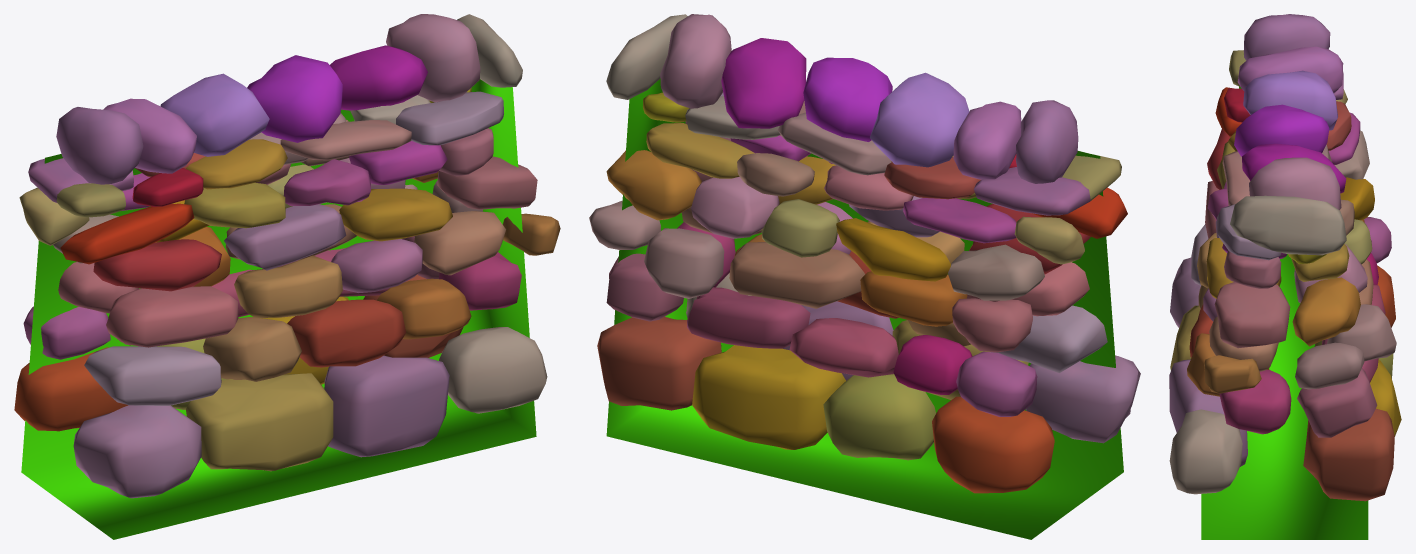
Rendered from SM_Prop_wall_stone_19.glb.
The picture shows the model from 3 angles, left to right: view 1: azimuth 30°, elevation 25°; view 2: azimuth 150°, elevation 25°; view 3: azimuth 270°, elevation 25°; orthographic projection. The views are drawn at different scales.
Parts seen in each view (by area): view 1: SM_Prop_wall_stone_19; view 2: SM_Prop_wall_stone_19; view 3: SM_Prop_wall_stone_19.
Boxes of the visible parts, x1,y1,x2,y2 form: SM_Prop_wall_stone_19: (14,14,560,539); SM_Prop_wall_stone_19: (589,14,1140,539); SM_Prop_wall_stone_19: (1169,14,1401,539).
Size of the model in its own units: 2.22 by 1.74 by 1.03.
